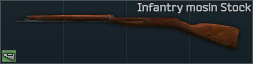Mosin Infantry stock: (0, 0, 253, 64)
